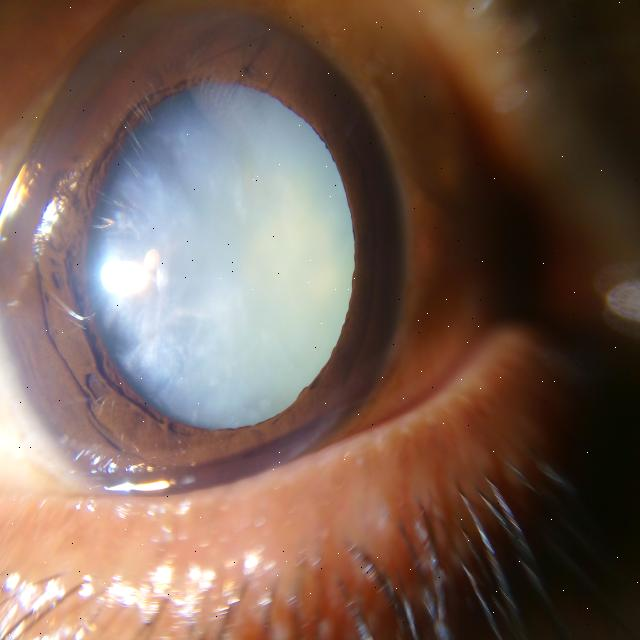Cataract: (0, 0, 399, 519)
